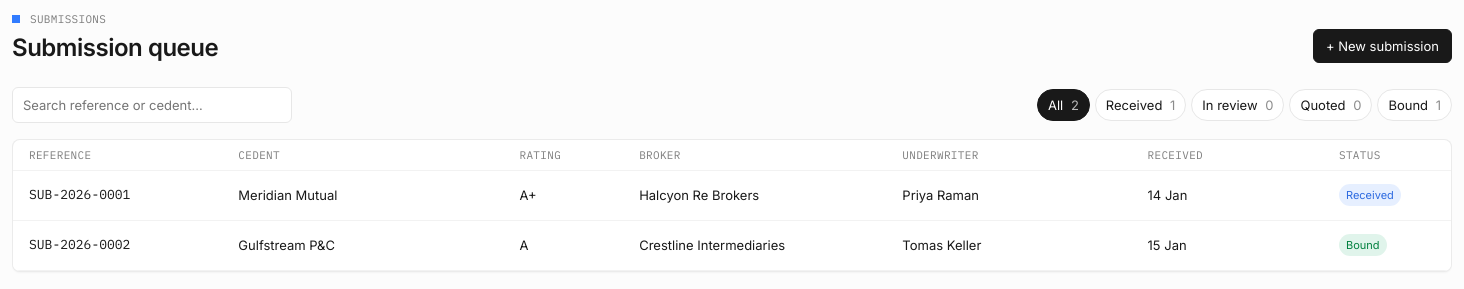
Test: SubmissionQueueScreen › filters rows when the Received chip is selected
Expected: the text "SUB-2026-0001" is shown, x1=29 y1=186 x2=130 y2=203
Expected: the text "SUB-2026-0002" is shown, x1=29 y1=236 x2=130 y2=253
Click the button "Received 1" at {"x": 1141, "y": 105}, box x1=1095 y1=89 x2=1186 y2=121
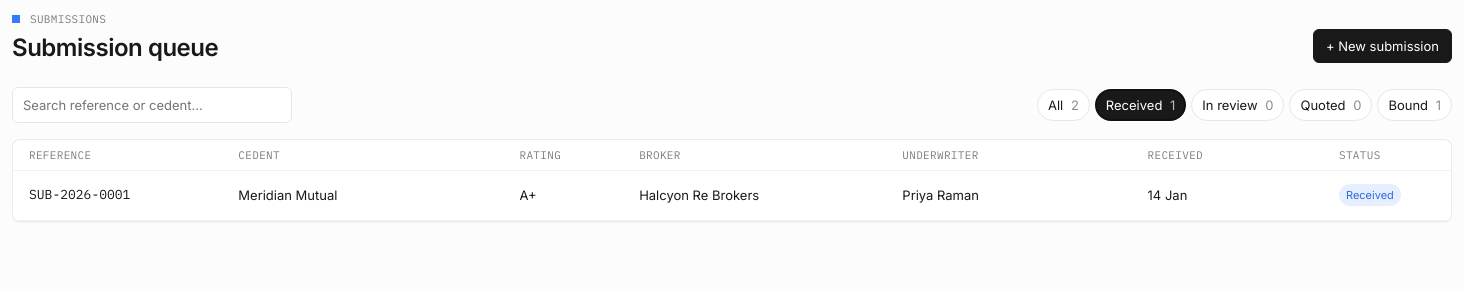
Expected: the text "SUB-2026-0001" is shown, x1=29 y1=186 x2=130 y2=203
Now the button "SUB-2026-0002" is gone
